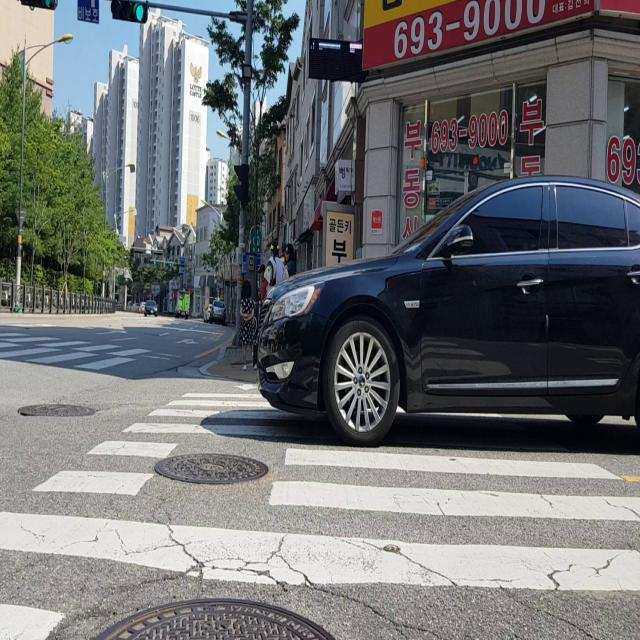횡단보도: (0, 374, 640, 640), (0, 330, 181, 374)
